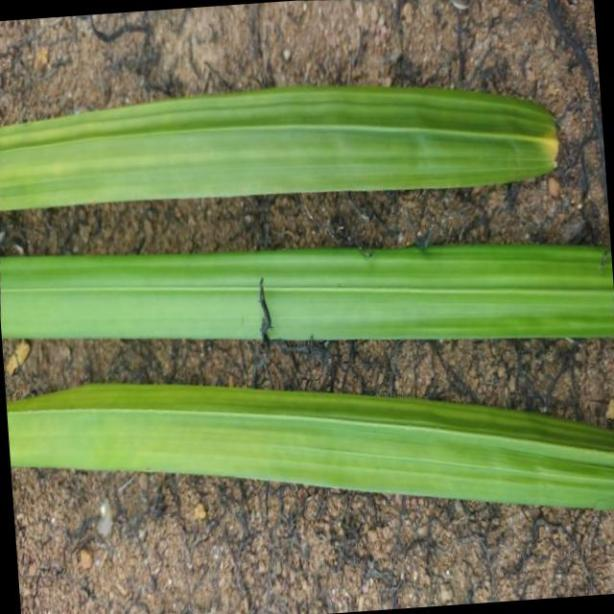nitrogen: (1, 379, 614, 515), (0, 83, 560, 216), (5, 240, 614, 348)
